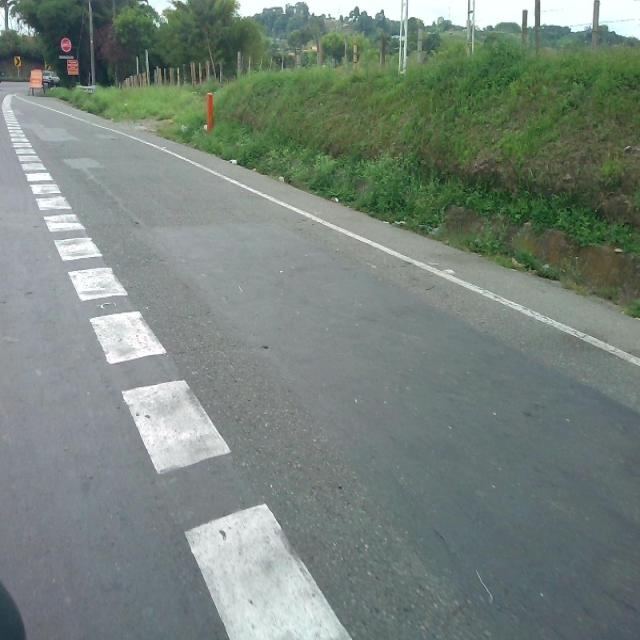DITCH: (2, 89, 638, 638)
